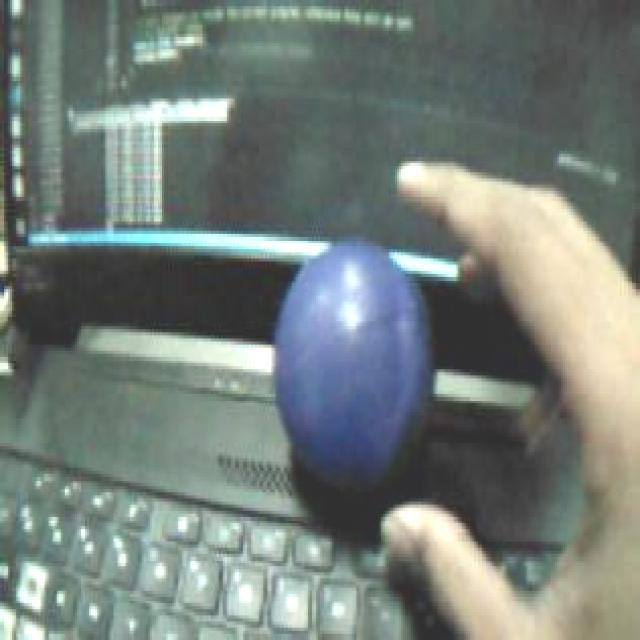BallPurple: (274, 238, 434, 499)
